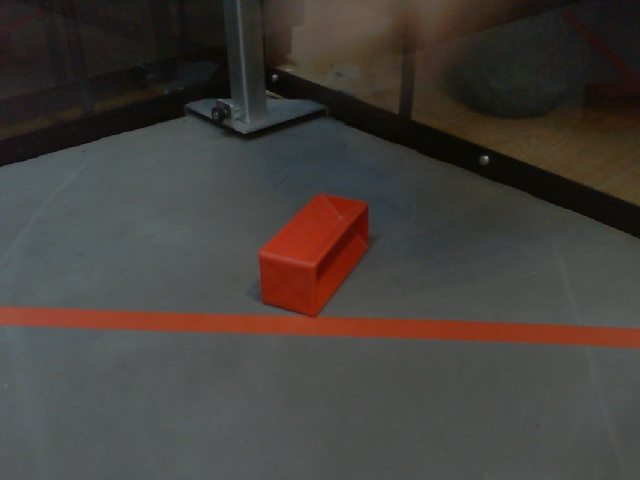RedSample: (258, 192, 372, 317)
